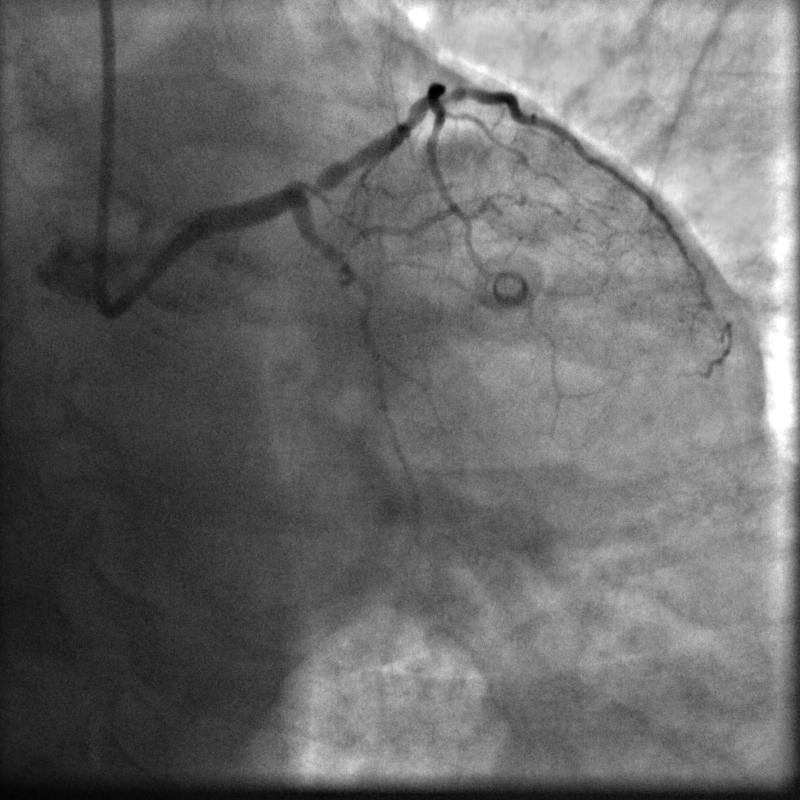Stenosis: (287, 169, 333, 200)
